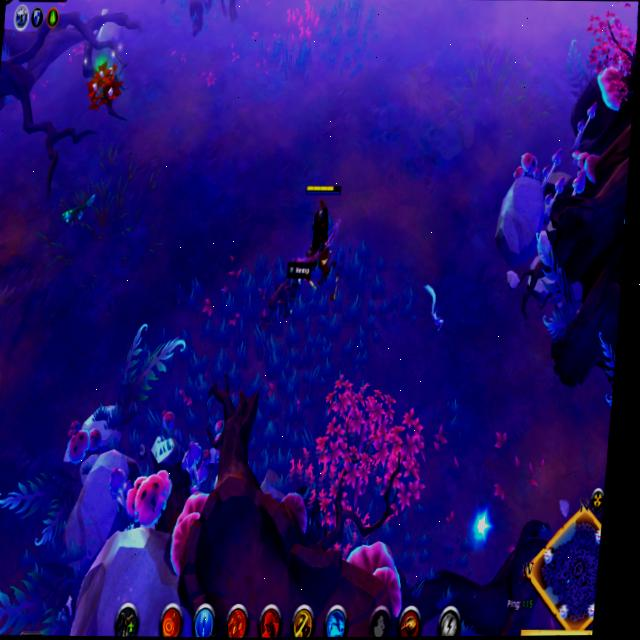hide: (262, 259, 314, 328), (80, 51, 126, 116)
red: (296, 174, 346, 293)
